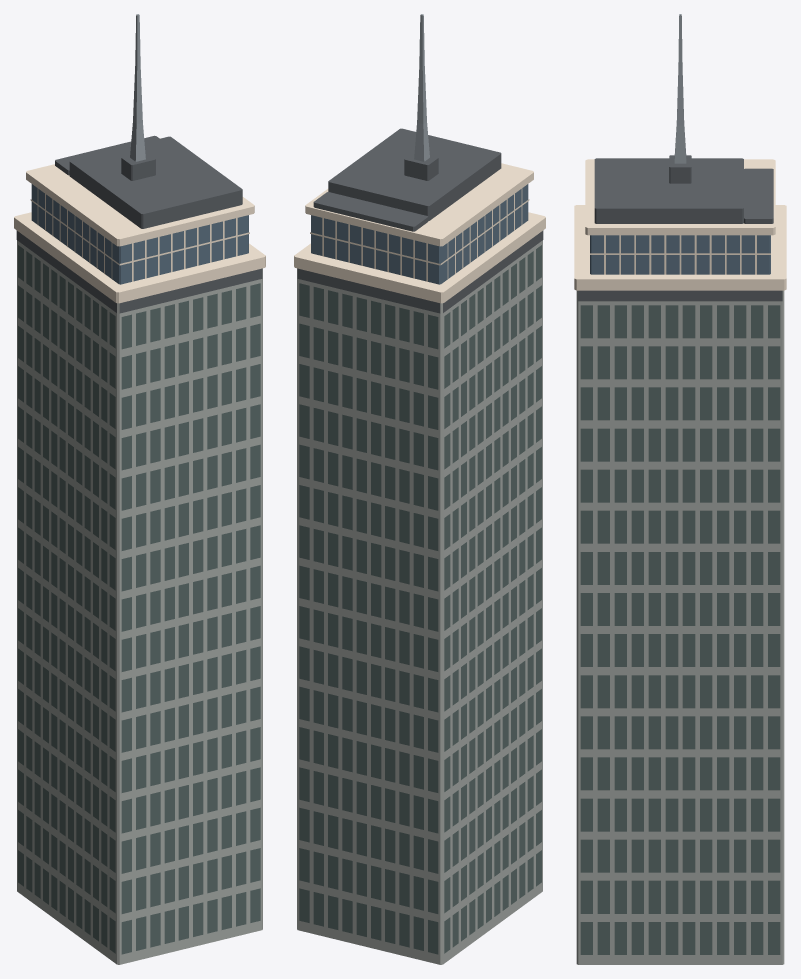
Rendered from bos-prudential-tower.glb.
3 renders of one model, left to right at view 1: azimuth 30°, elevation 25°; view 2: azimuth 150°, elevation 25°; view 3: azimuth 270°, elevation 25°, orthographic.
Parts seen in each view (by area): view 1: Prudential Tower; view 2: Prudential Tower; view 3: Prudential Tower.
Part boxes in pixels (x1=…): Prudential Tower: x1=14, y1=14, x2=265, y2=964; Prudential Tower: x1=294, y1=14, x2=545, y2=964; Prudential Tower: x1=574, y1=14, x2=786, y2=964.
Bounding box in the file's own units: 47.3 × 270 × 57.
